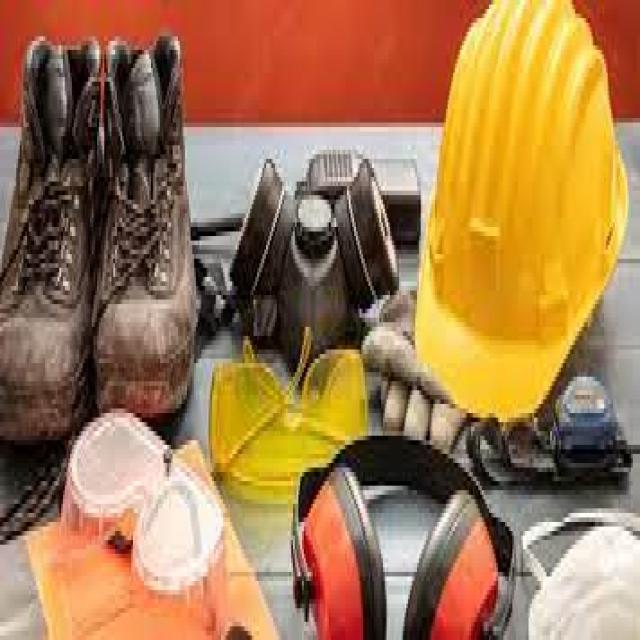shoes: (0, 34, 91, 448), (103, 39, 193, 403)
